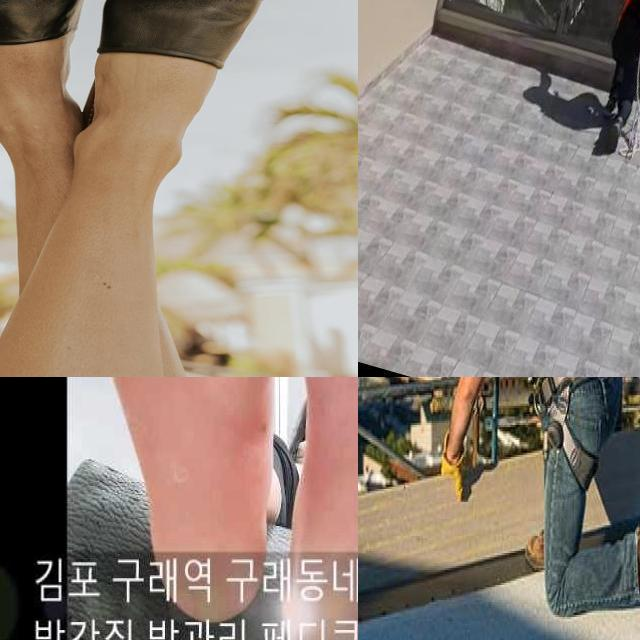Barefoots: (71, 377, 296, 640)
Harness: (618, 0, 640, 75)
Sandals: (98, 0, 288, 120), (0, 0, 91, 98)
